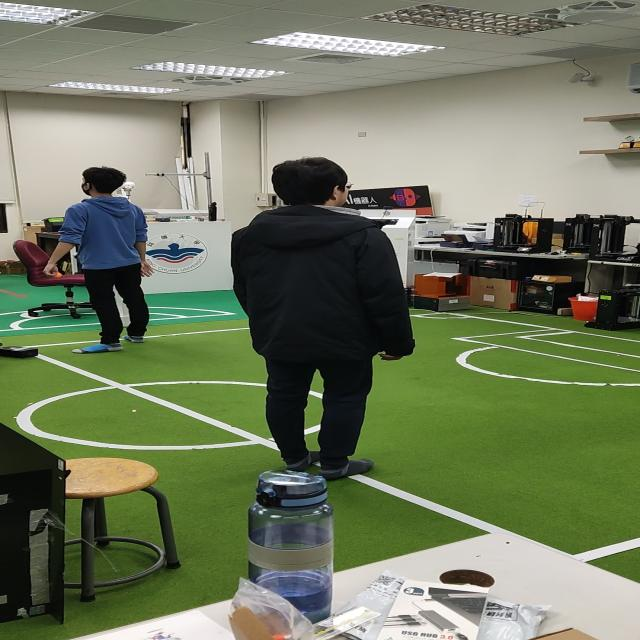person: (215, 144, 425, 463), (47, 157, 160, 353)
